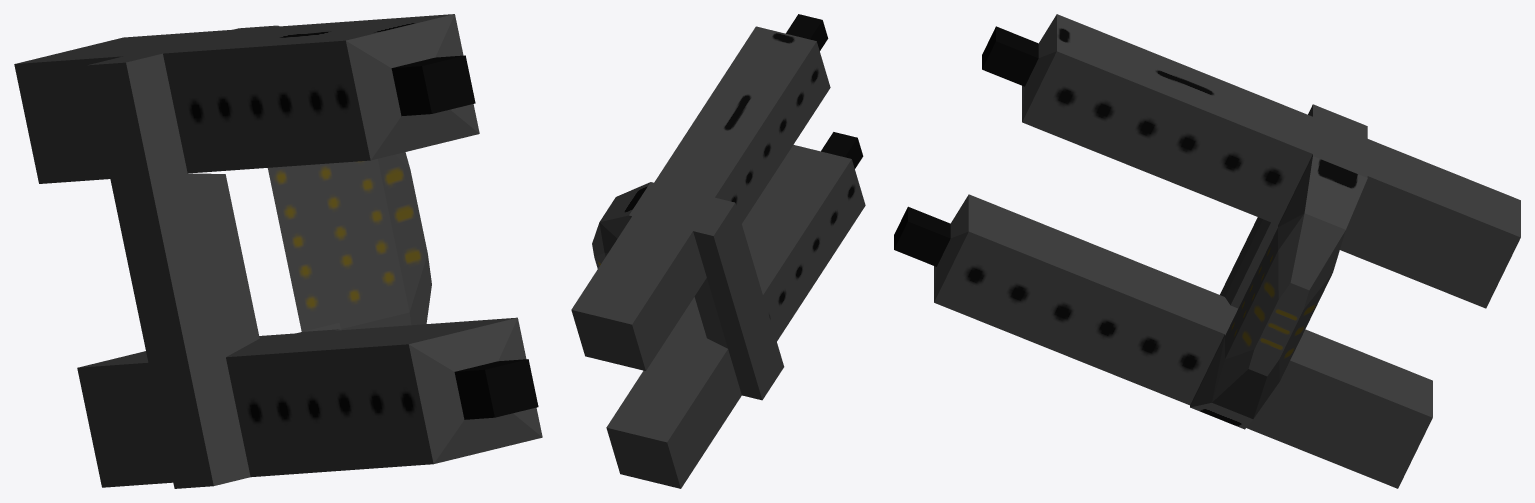
The model's file is weapon2-2.obj.
3 renders of one model, left to right at view 1: azimuth 30°, elevation 25°; view 2: azimuth 150°, elevation 25°; view 3: azimuth 270°, elevation 25°, orthographic. The views are drawn at different scales.
Visible parts, largest first — view 1: ArmWeapon2; view 2: ArmWeapon2; view 3: ArmWeapon2.
Boxes of the visible parts, x1=… form: ArmWeapon2: x1=14, y1=14, x2=542, y2=488; ArmWeapon2: x1=571, y1=14, x2=865, y2=488; ArmWeapon2: x1=894, y1=14, x2=1520, y2=488.
Bounding box in the file's own units: 2.22 × 5.1 × 6.62.
Materials: 1 (1 with a texture image).
